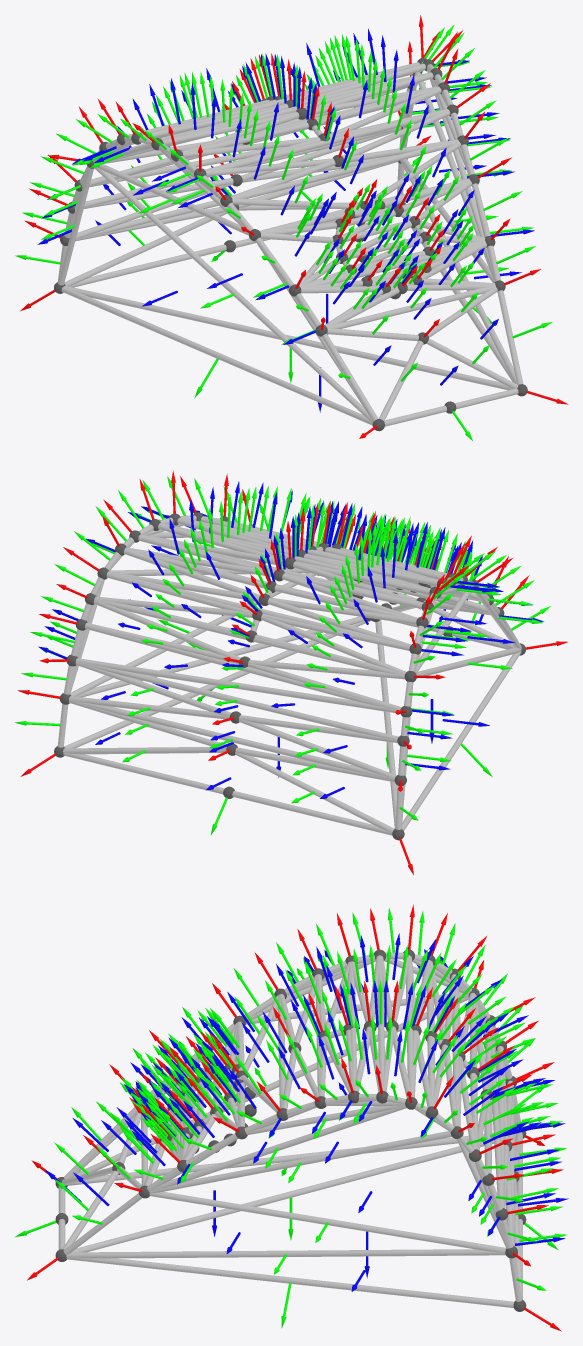
Rendered from onshape_simple_mouse.gltf.
The picture shows the model from 3 angles, top to bottom: view 1: azimuth 30°, elevation 25°; view 2: azimuth 150°, elevation 25°; view 3: azimuth 270°, elevation 25°; orthographic projection. The views are drawn at different scales.
Size of the model in its own units: 0.7678 by 0.4883 by 0.8554.
